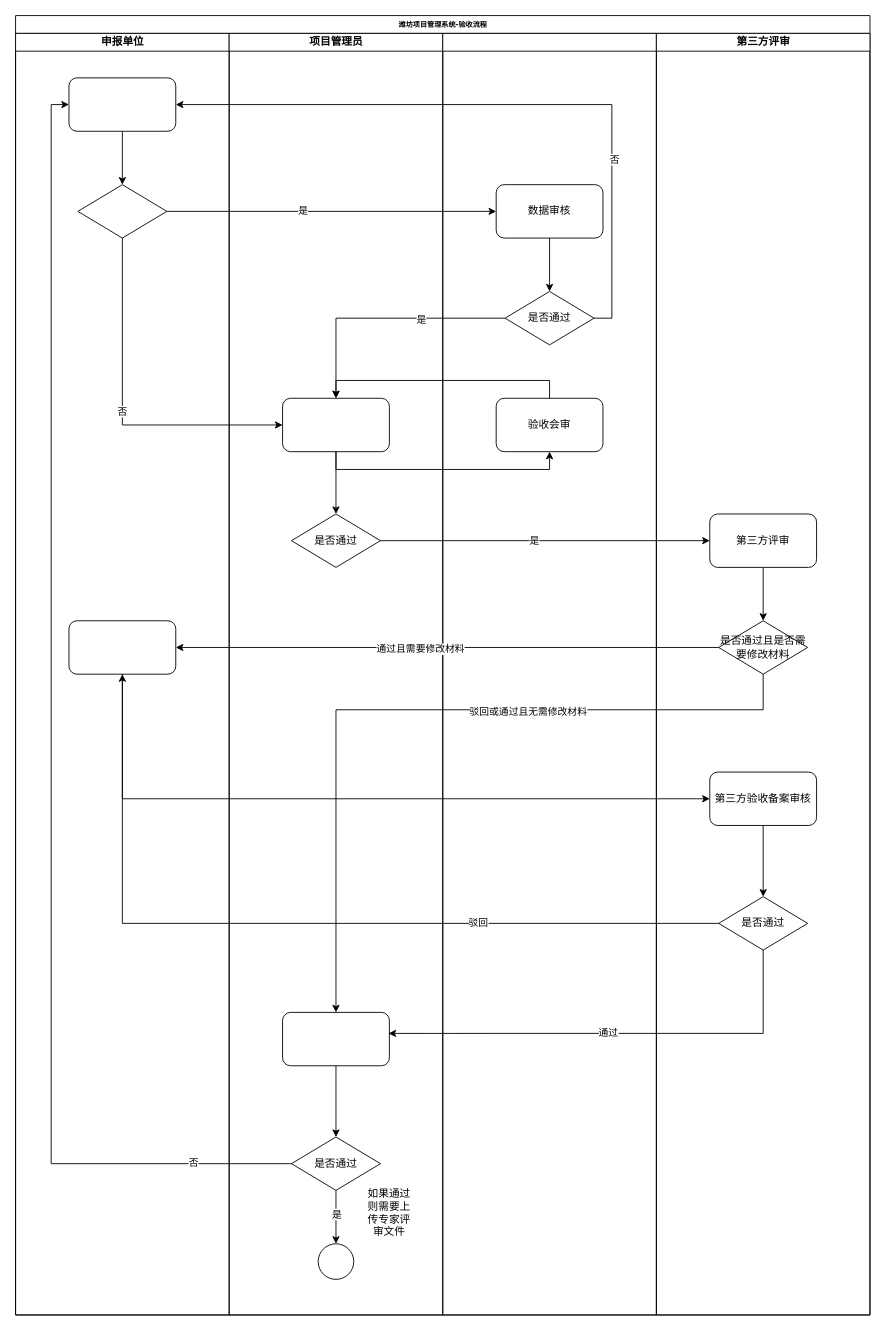
Some shapes in this 886 by 1331 pixel diagram are drawn without their labels. Each missing label, with the box of its shape:
是否包含软件开发: (77, 184, 167, 238)
科室与会审人员: (442, 32, 656, 1315)
结束: (317, 1243, 354, 1279)
验收初审: (282, 397, 389, 452)
验收备案: (68, 620, 176, 674)
验收审核: (282, 1011, 389, 1066)
验收申请: (68, 77, 176, 131)
